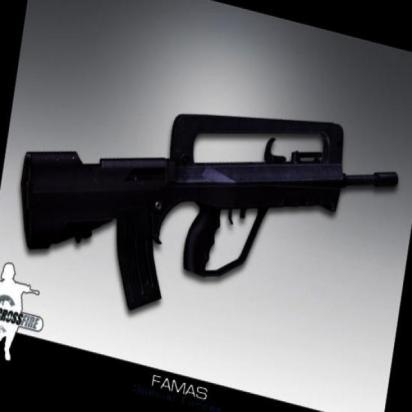Gun: (13, 53, 396, 318)
